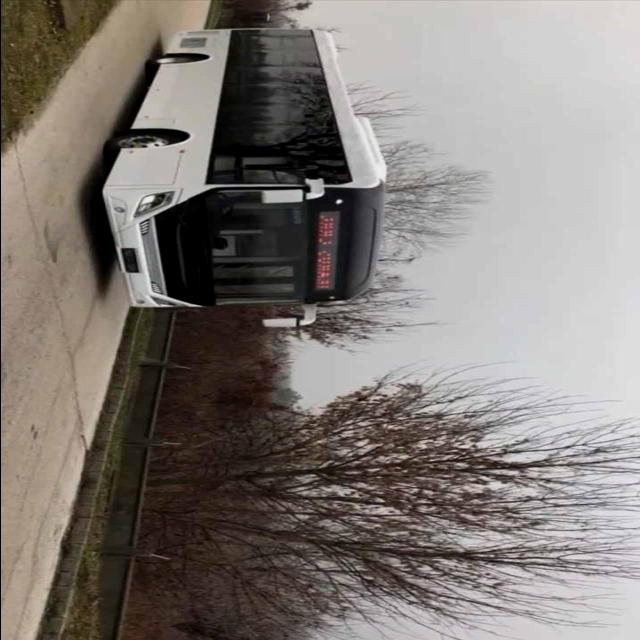bus: (106, 28, 392, 332)
